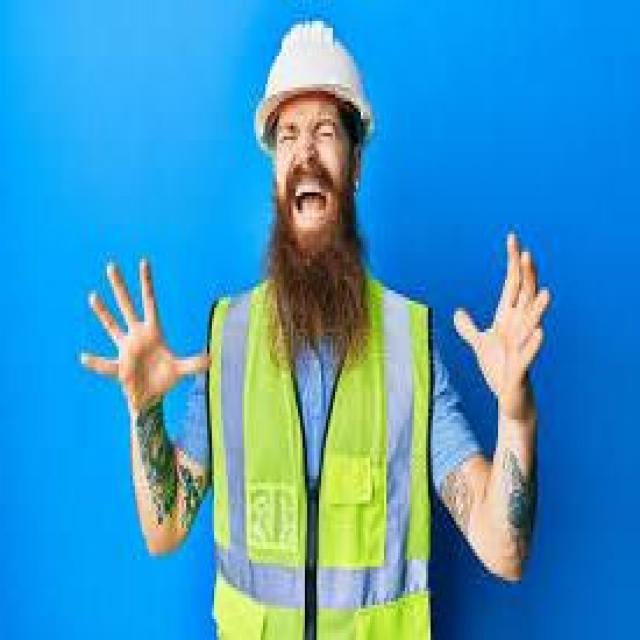Reflective-Jacket: (200, 273, 445, 636)
Safety-Helmet: (251, 14, 375, 140)
